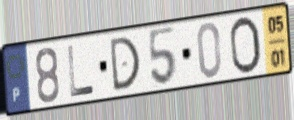0: (195, 21, 223, 80)
5: (146, 24, 179, 89)
8: (34, 45, 61, 105)
D: (108, 34, 142, 94)
L: (66, 43, 97, 99)
O: (228, 14, 264, 77)
